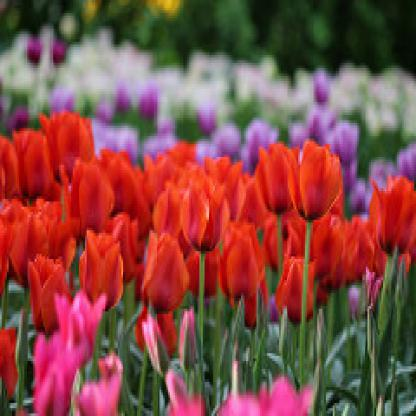TULIP: (10, 80, 403, 399)
